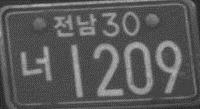0: (122, 40, 154, 96), (121, 10, 141, 37)
1: (69, 41, 86, 99)
2: (92, 41, 124, 97)
3: (101, 11, 119, 38)
9: (155, 39, 182, 95)
너: (19, 44, 52, 82)
전남_O: (52, 12, 97, 37)
